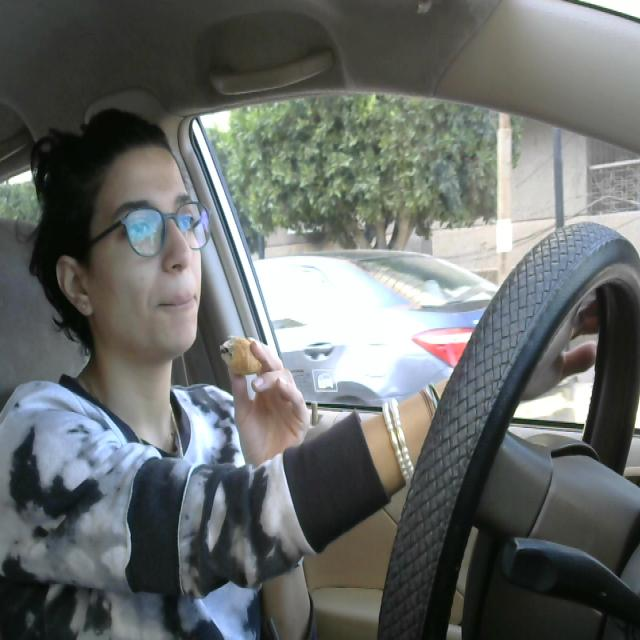eating: (214, 330, 270, 374)
